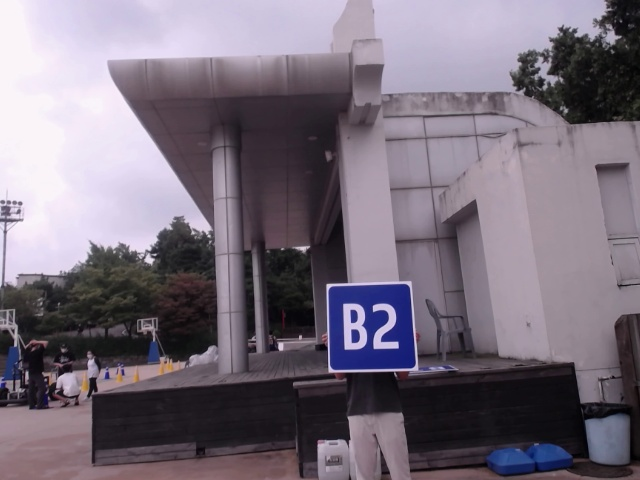delivery_b2: (327, 284, 416, 371)
